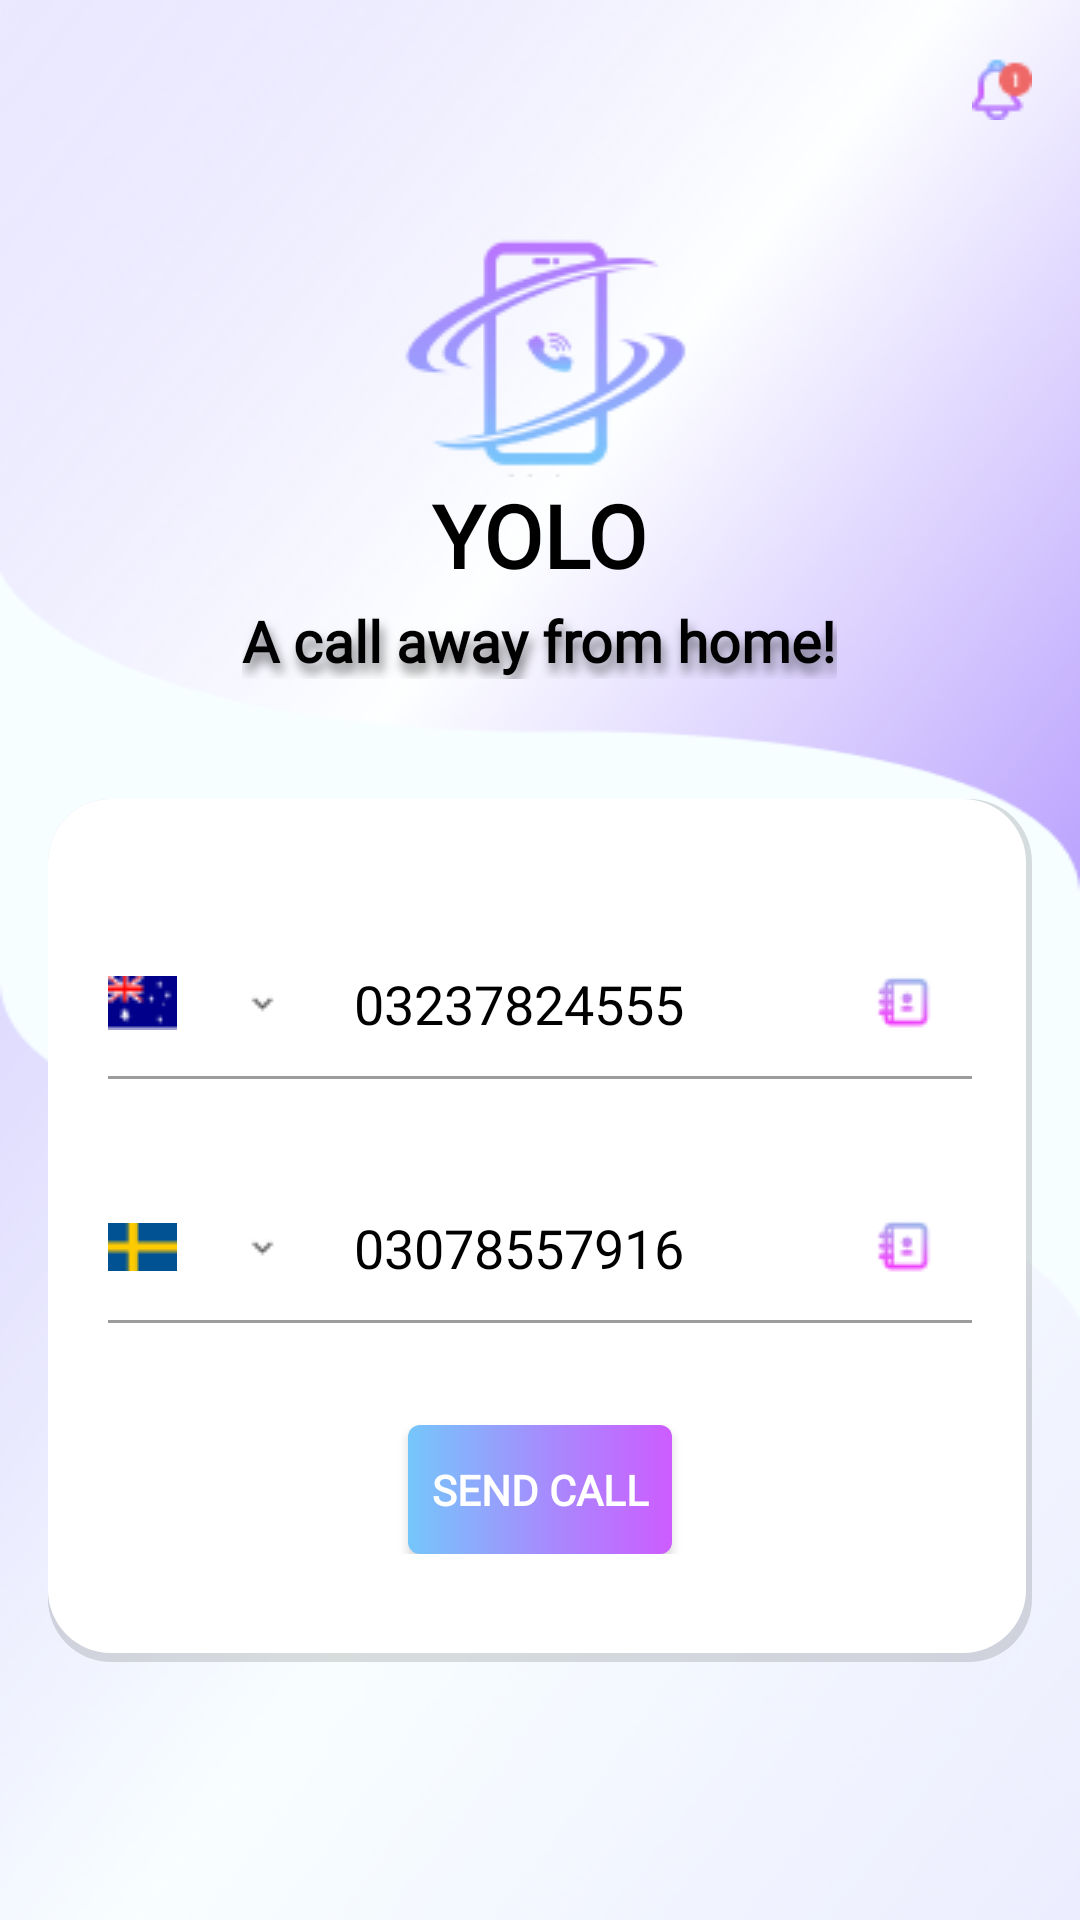

Screen size 1080px×1920px. Icon name, then its center in pixels as (x,y):
contact list: (904,1003), (904,1247)
notification bell: (1002,89)
